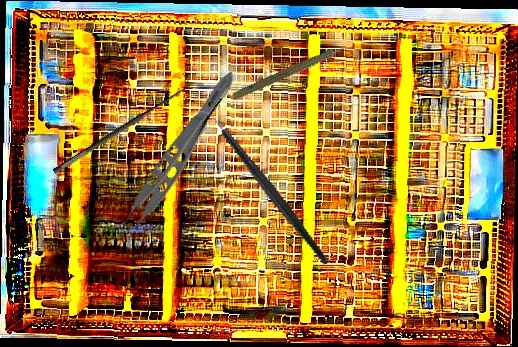Chopper: (192, 82, 331, 289)
Handpiece: (230, 37, 358, 106)
Hook Surgical: (45, 72, 195, 177)
Tissue Forceps: (107, 60, 241, 246)
